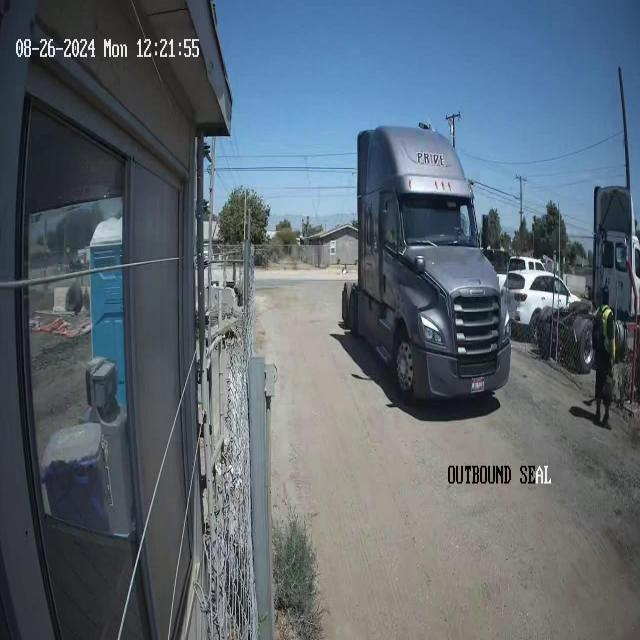TRUCK_IN: (341, 121, 512, 405)
